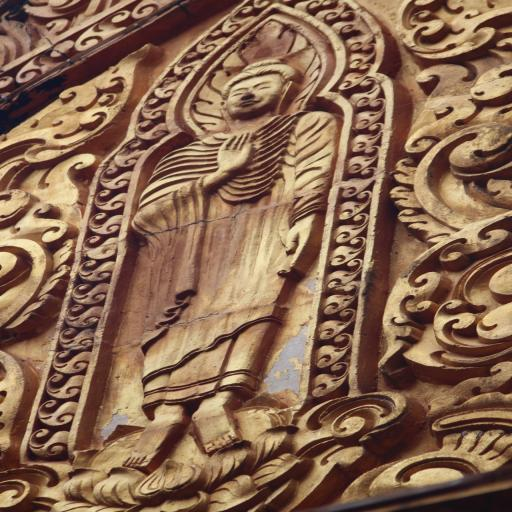la: (402, 73, 512, 250), (392, 216, 512, 372), (0, 156, 108, 327), (0, 53, 138, 159), (405, 0, 512, 77)
lua: (43, 372, 86, 401), (68, 280, 113, 306), (49, 350, 95, 372), (28, 434, 73, 456), (72, 259, 115, 282), (40, 401, 74, 429), (325, 289, 354, 318), (61, 304, 96, 328), (348, 154, 384, 177), (312, 369, 343, 395), (59, 327, 95, 349), (348, 85, 378, 111), (111, 143, 143, 167), (93, 190, 135, 208), (76, 235, 110, 257), (223, 6, 255, 29), (89, 213, 122, 235), (329, 14, 363, 35), (344, 30, 376, 52), (327, 268, 356, 292), (133, 121, 169, 140), (340, 179, 372, 199), (350, 132, 379, 154), (331, 244, 359, 266), (317, 344, 344, 366), (95, 172, 129, 189), (319, 0, 344, 23), (353, 110, 381, 130), (343, 198, 367, 221), (337, 222, 363, 243), (151, 76, 177, 97), (138, 100, 164, 121), (321, 319, 348, 339), (171, 53, 196, 74), (348, 54, 377, 69), (344, 74, 371, 90), (199, 32, 219, 52)
than: (100, 59, 342, 456)
